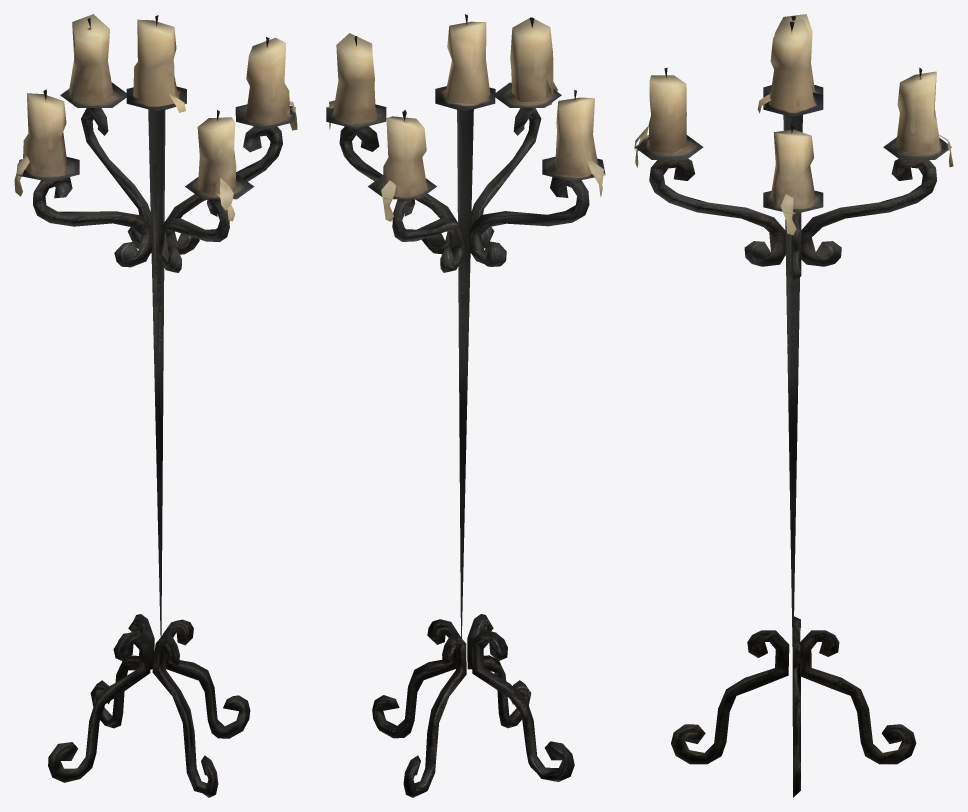
The model's file is candelabro.glb.
The picture shows the model from 3 angles, left to right: view 1: azimuth 30°, elevation 25°; view 2: azimuth 150°, elevation 25°; view 3: azimuth 270°, elevation 25°; orthographic projection.
Parts seen in each view (by area): view 1: candelabro; view 2: candelabro; view 3: candelabro.
Boxes of the visible parts, <box> form: candelabro: <box>14,14,297,797</box>; candelabro: <box>326,14,605,797</box>; candelabro: <box>634,14,953,797</box>.
Size of the model in its own units: 0.3921 by 0.9995 by 0.3892.
Materials: 1 (1 with a texture image).
